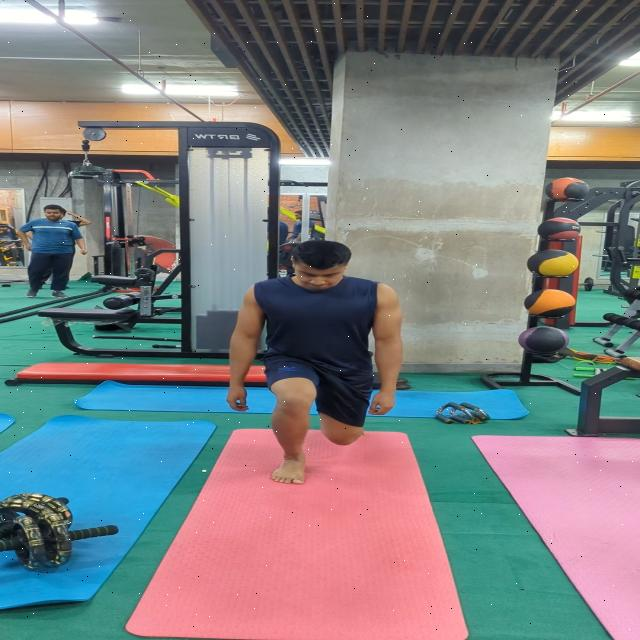Normal_Lunges: (219, 236, 402, 488)
